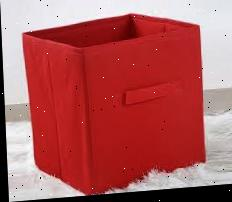cube: (22, 9, 205, 201)
